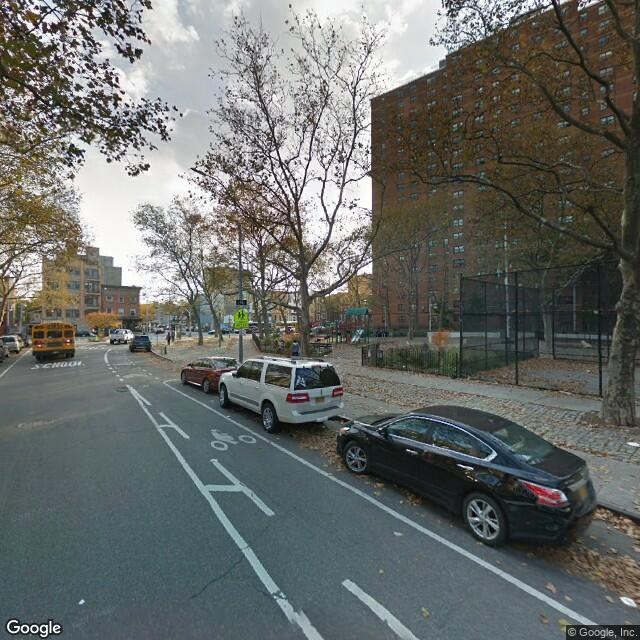litter: (621, 591, 632, 610)
